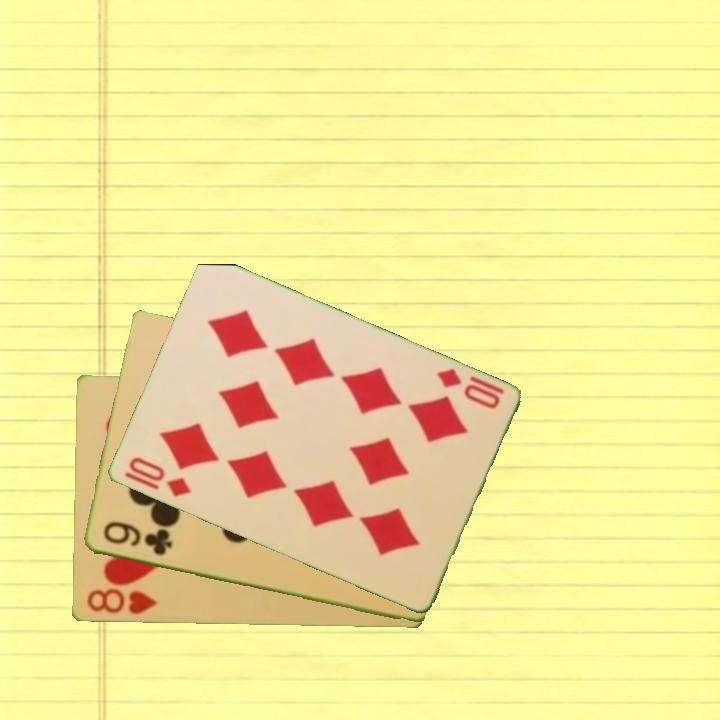10d: (120, 453, 194, 501), (432, 364, 502, 412)
8h: (83, 586, 160, 618)
9c: (99, 518, 175, 559)
